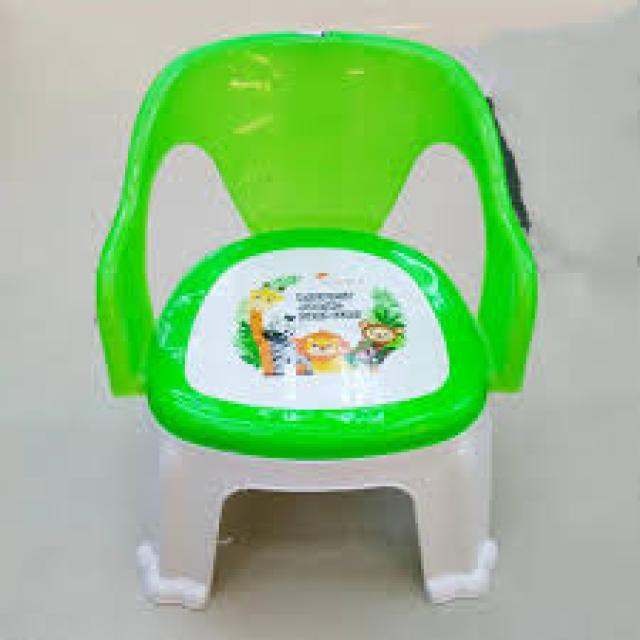chair: (99, 27, 540, 614)
